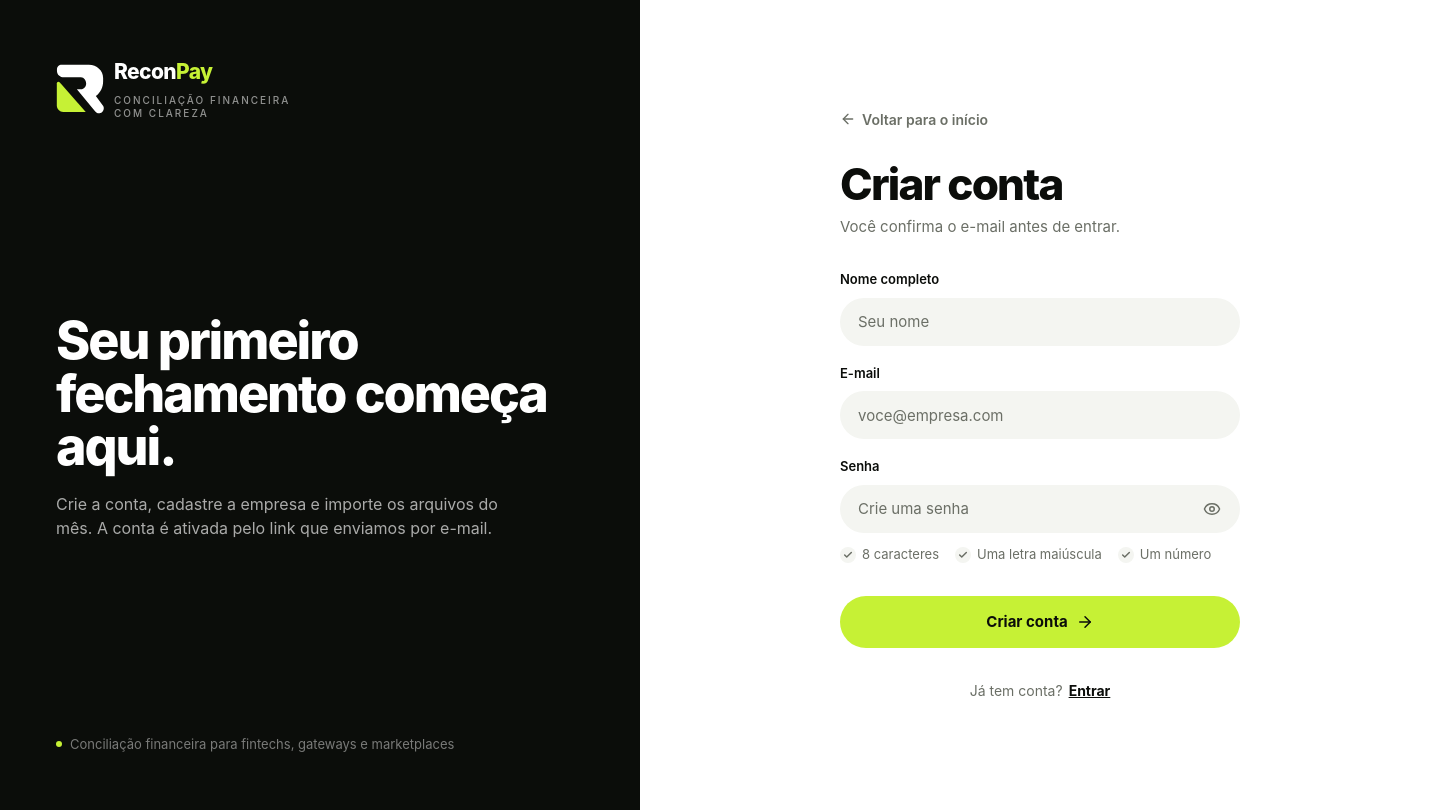
it: RegisterPage › mostra e oculta a senha mantendo o que foi digitado (CAD-02 AC3)
In the password field labelled "Senha": (1040, 509) [840, 485, 1240, 533], type "Reconpay20"
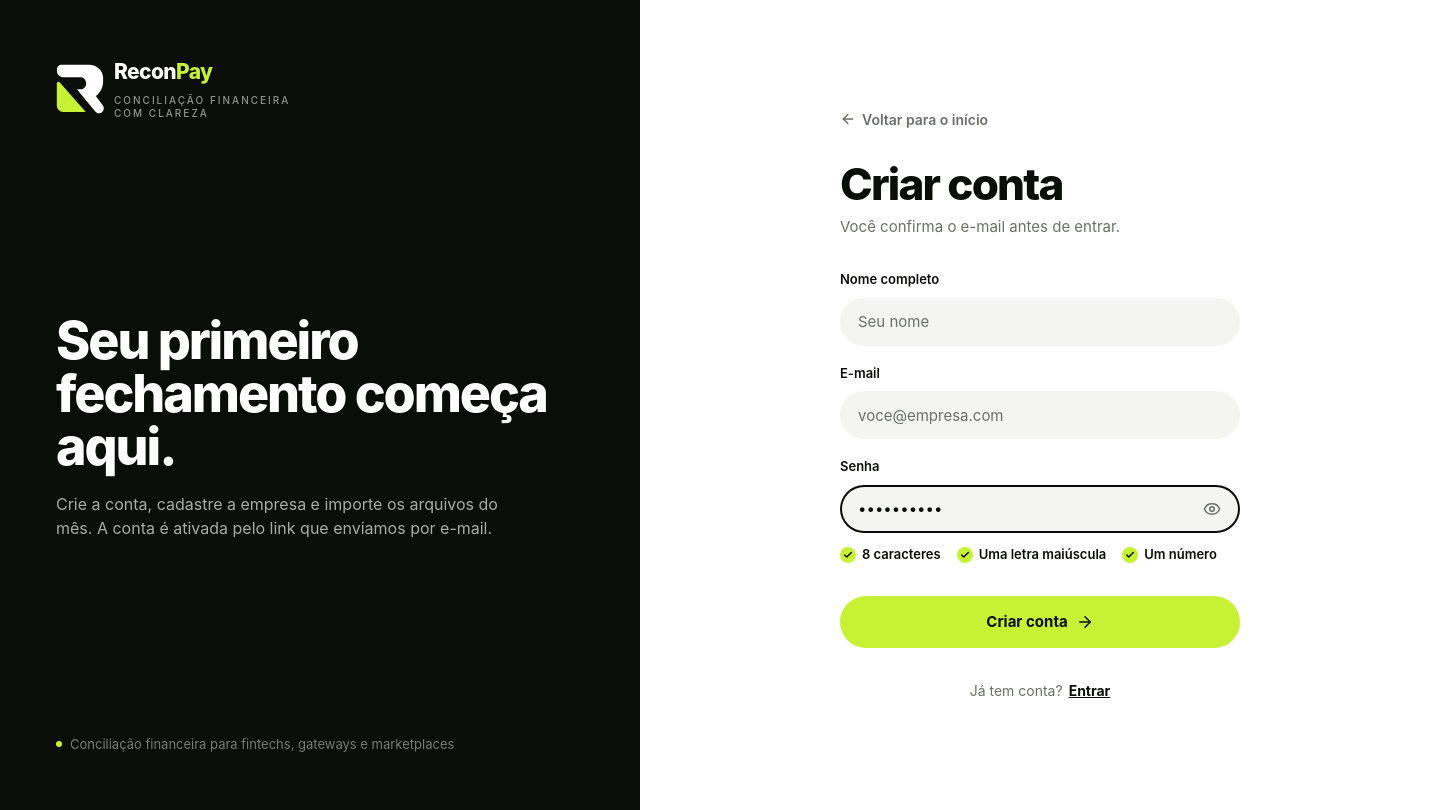
Click the button named "Mostrar senha": (1212, 509) [1196, 493, 1228, 525]
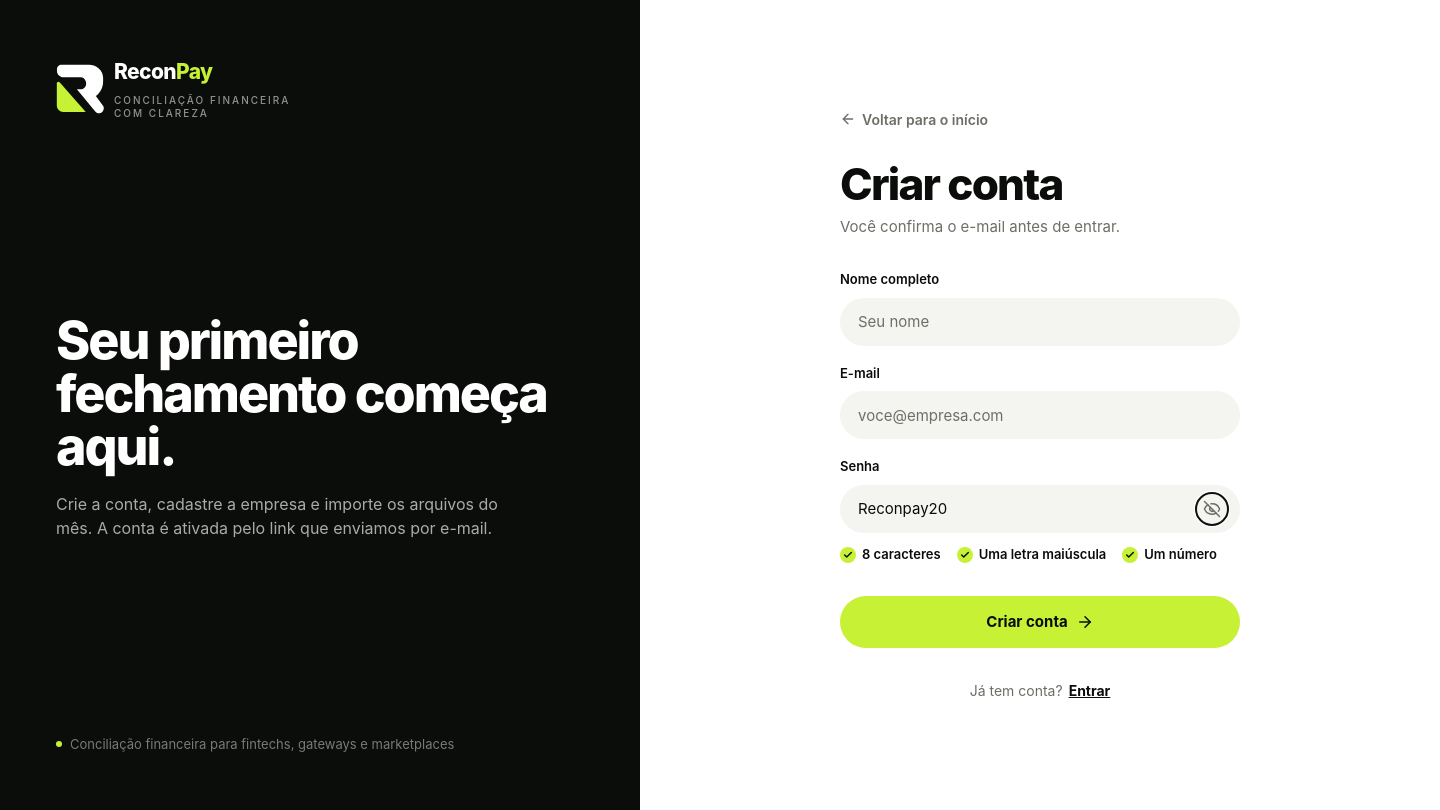
Expected: the field labelled "Senha" shows its text, [840, 485, 1240, 533]
Click the button named "Ocultar senha": (1212, 509) [1196, 493, 1228, 525]
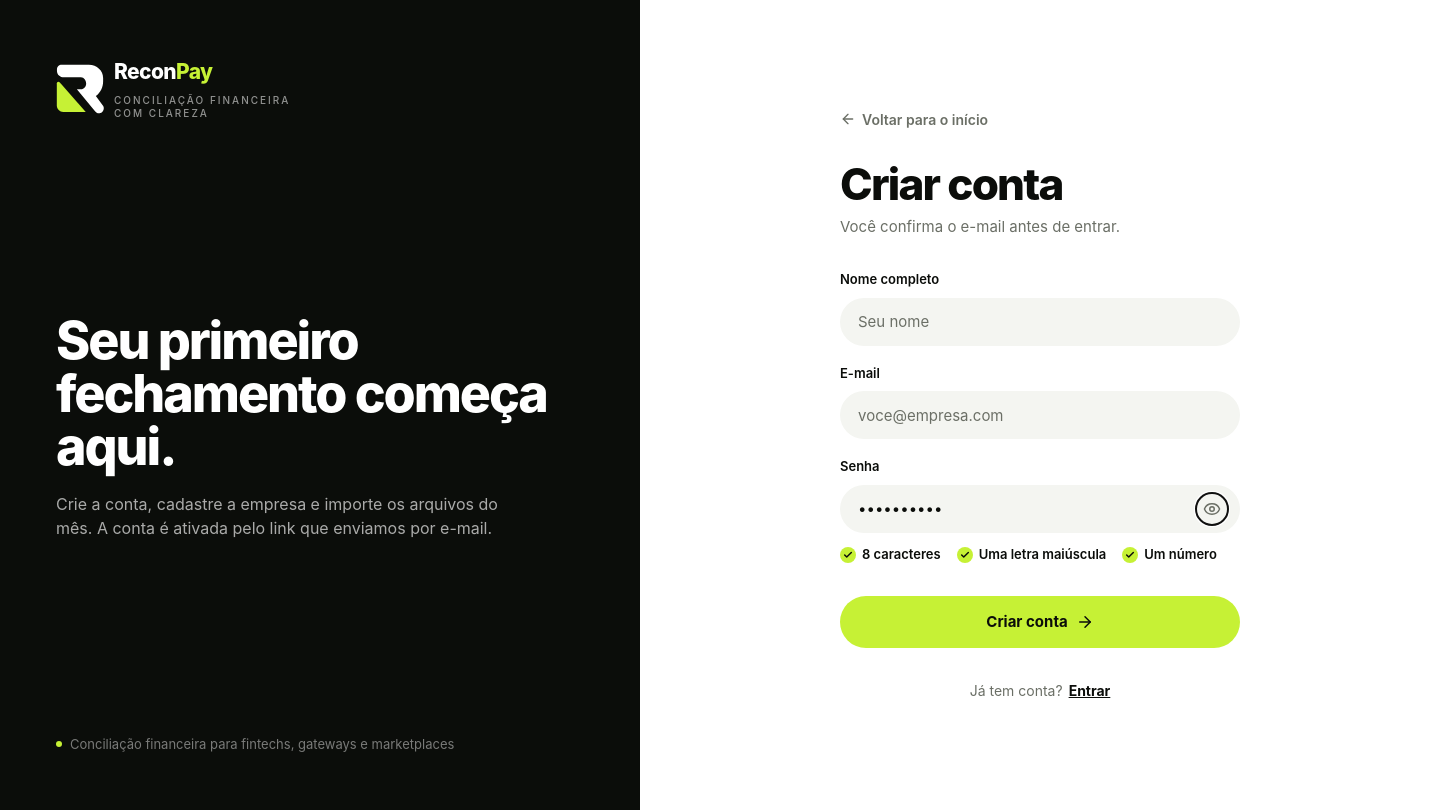
Expected: the password field labelled "Senha" hides its text, [840, 485, 1240, 533]
